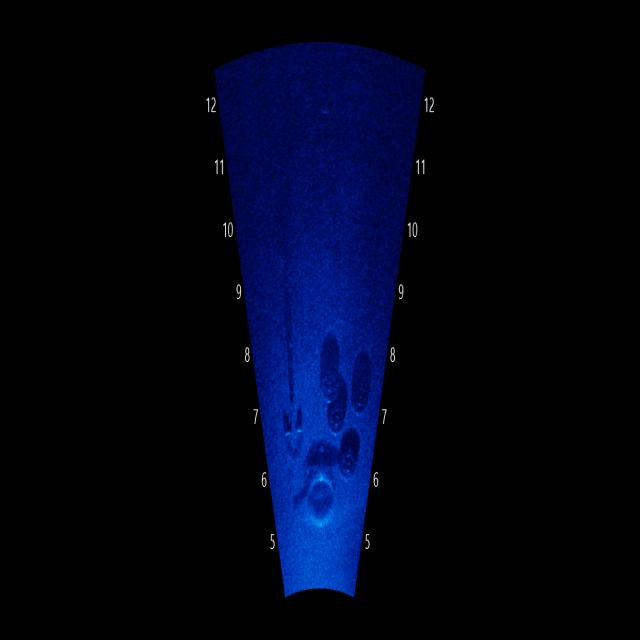circle: (290, 453, 343, 533), (317, 382, 357, 441), (333, 428, 366, 490), (312, 353, 346, 405), (346, 379, 382, 422)
